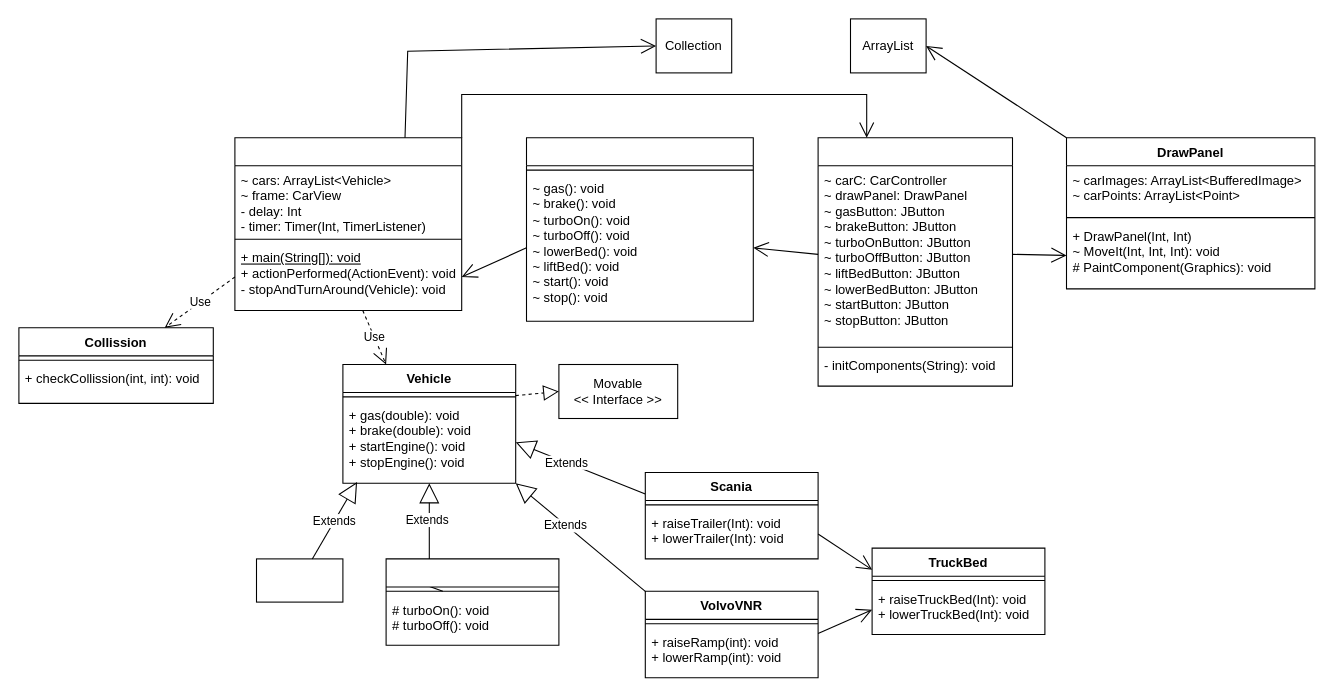
This 1334x700 diagram has some shape labels left out. The box of each missing label's shape, as (x1, y1, x2, y2) in pixels:
Application: (234, 137, 462, 310)
CarController: (525, 137, 753, 321)
CarView: (817, 137, 1013, 386)
Saab95: (385, 558, 559, 645)
Volvo240: (255, 558, 343, 602)
